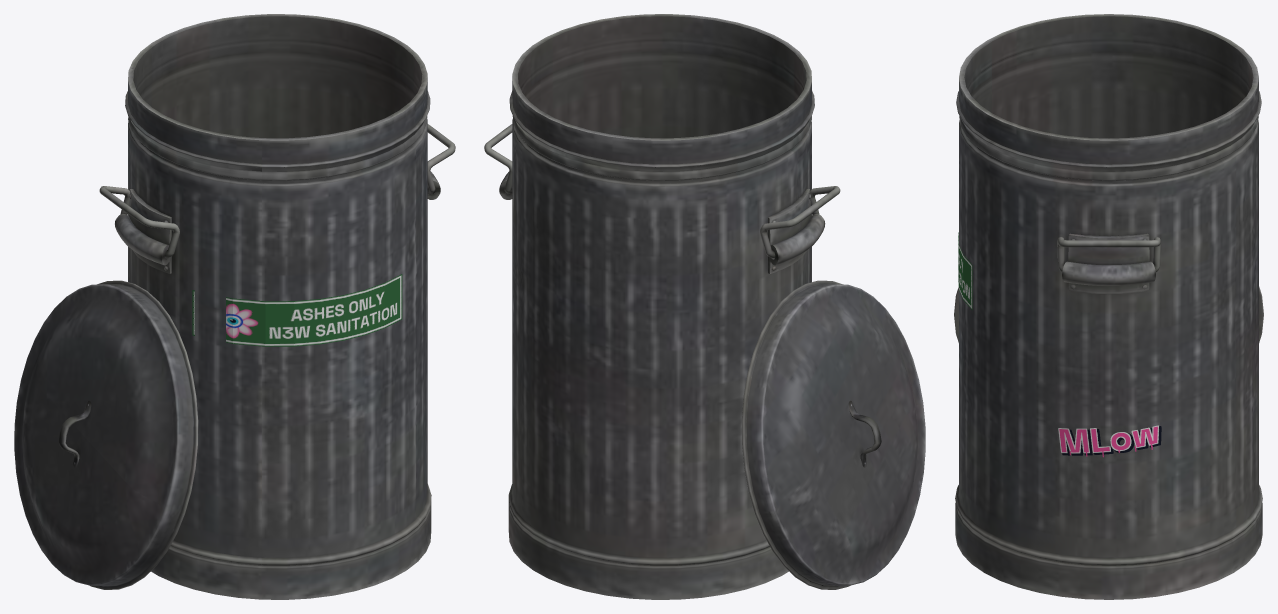
File: nyb_treebrooklyn_ashcan.glb
3 renders of one model, left to right at view 1: azimuth 30°, elevation 25°; view 2: azimuth 150°, elevation 25°; view 3: azimuth 270°, elevation 25°, orthographic.
Visible parts, largest first — view 1: metal_trash_can_handle_left, stk_lbl_61664f96d6.png; view 2: metal_trash_can_handle_left; view 3: metal_trash_can_handle_left, stk_tag_mlow.png, stk_lbl_61664f96d6.png.
Part boxes in pixels (left/top/right/bottom): metal_trash_can_handle_left: left=14, top=14, right=455, bottom=599; stk_lbl_61664f96d6.png: left=192, top=274, right=402, bottom=346; metal_trash_can_handle_left: left=484, top=14, right=925, bottom=599; metal_trash_can_handle_left: left=954, top=14, right=1263, bottom=599; stk_tag_mlow.png: left=1058, top=425, right=1161, bottom=457; stk_lbl_61664f96d6.png: left=958, top=232, right=972, bottom=310.
Bounding box in the file's own units: 0.778 × 0.9062 × 0.5563.
Materials: 3 (3 with a texture image).
